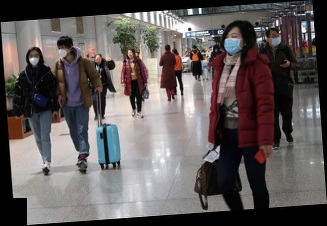with_mask: (223, 30, 243, 56), (269, 32, 282, 46), (28, 51, 40, 66), (57, 45, 67, 58)
without_mask: (94, 55, 103, 63), (126, 50, 134, 57)
